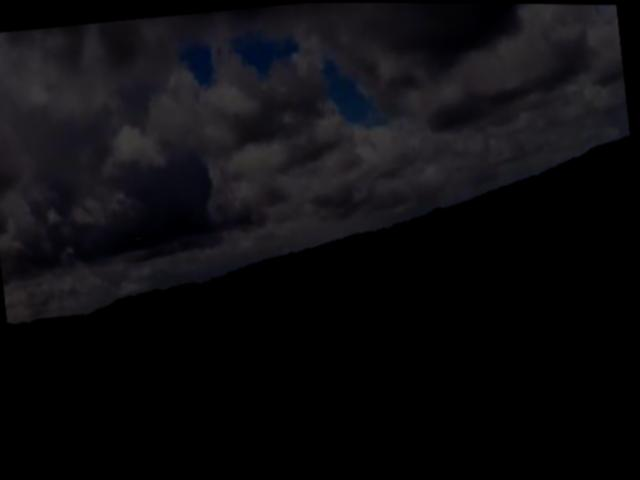iha: (122, 226, 158, 244)
